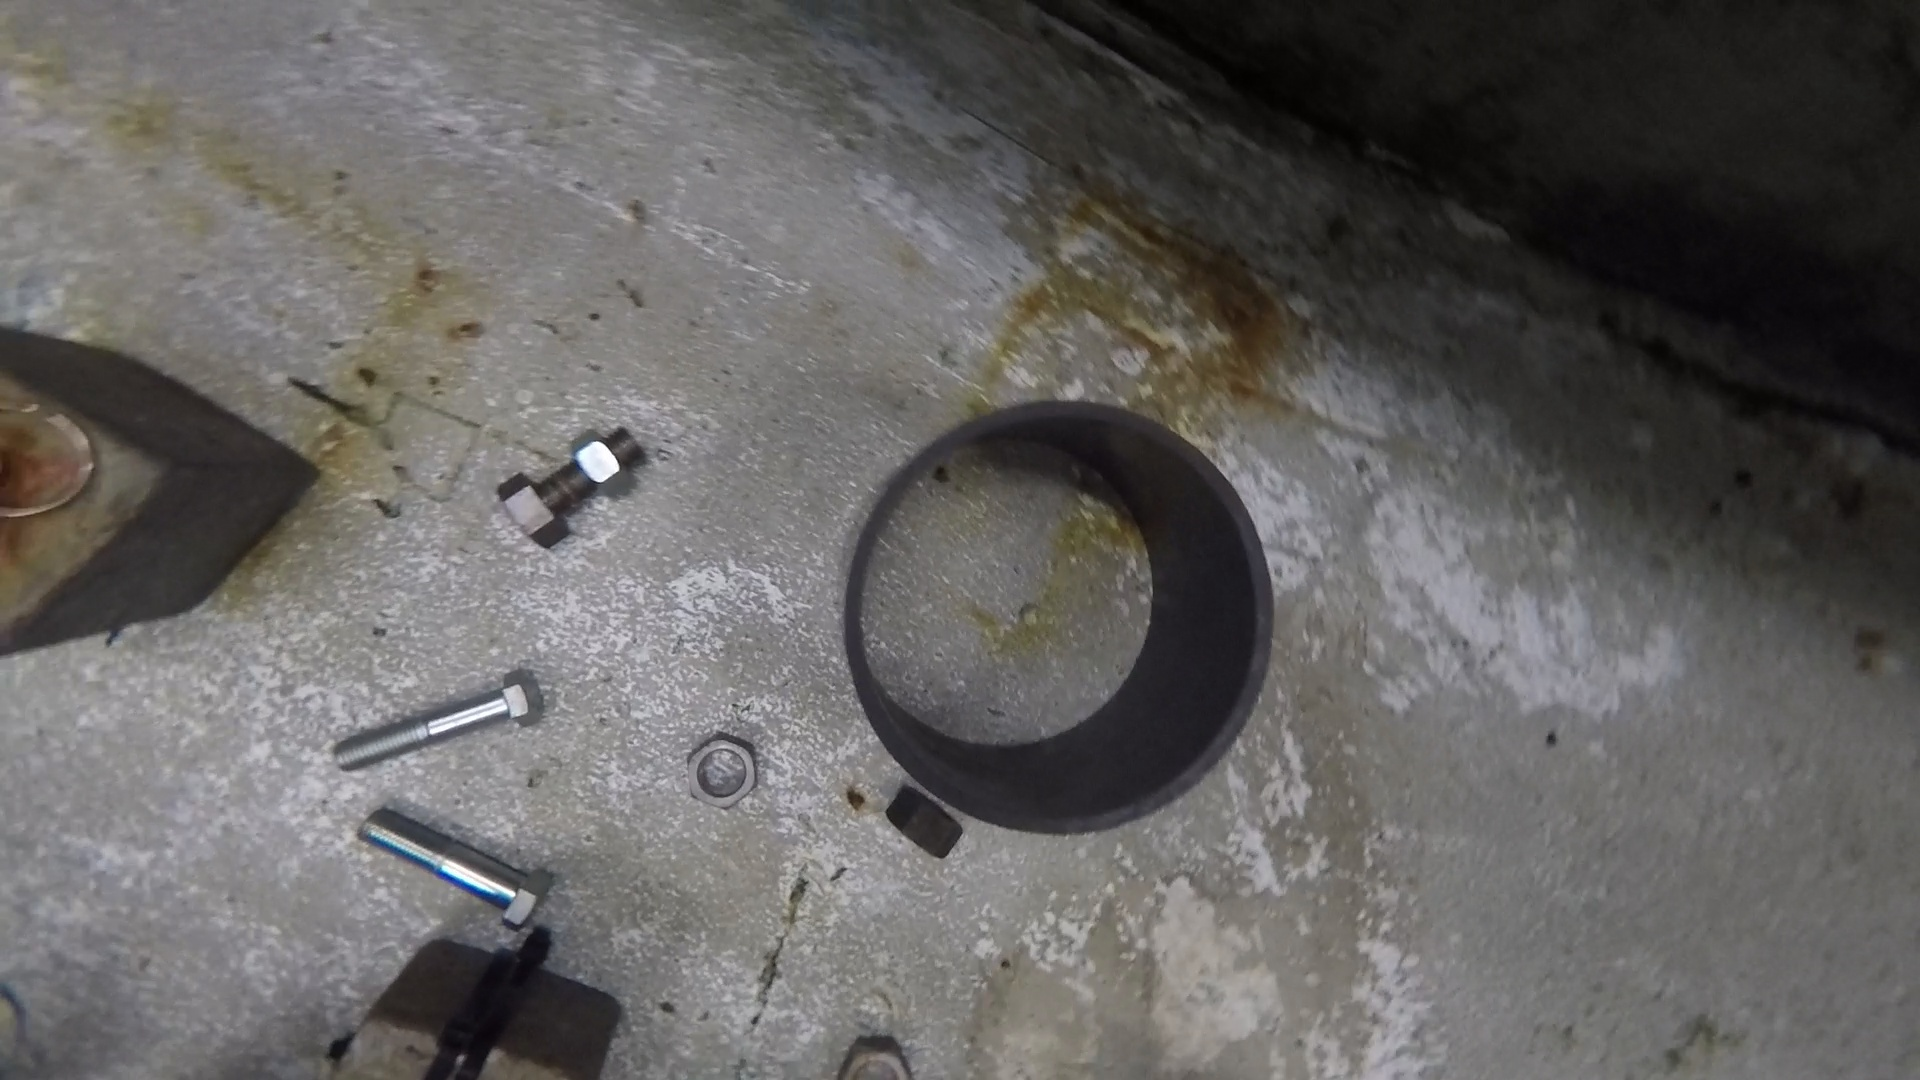bolt: (328, 666, 547, 775), (356, 808, 553, 928), (496, 425, 644, 549)
led_block: (1, 323, 322, 658), (324, 928, 622, 1080)
nut: (684, 729, 760, 811), (882, 786, 963, 858), (568, 429, 636, 501), (833, 1033, 914, 1080)
pipe: (843, 398, 1280, 837)
